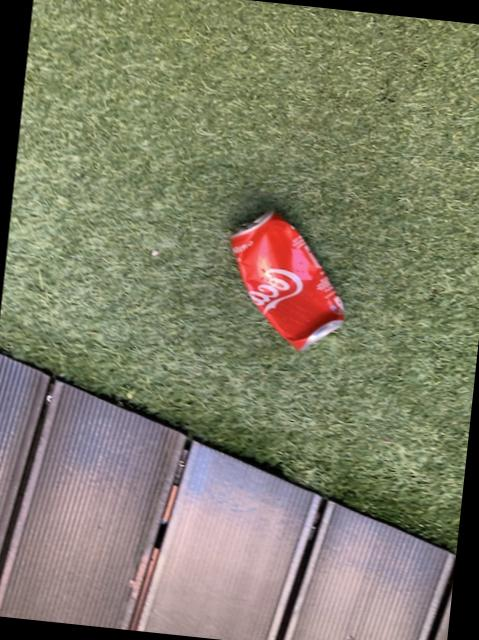metal: (0, 352, 456, 640)
